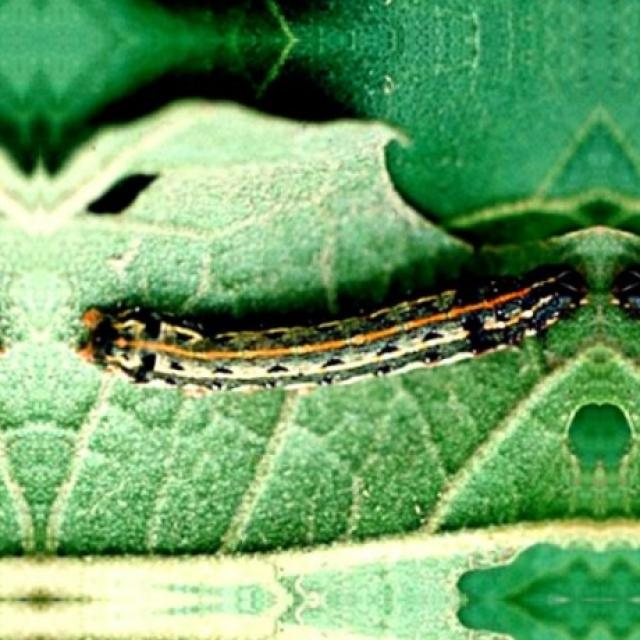Armyworm: (86, 251, 580, 424)
Armyworm_damage: (553, 379, 640, 488), (66, 156, 181, 236)
